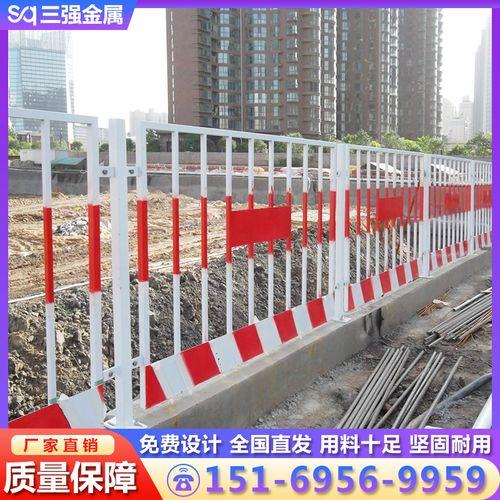sign: (8, 104, 355, 360), (356, 131, 476, 288)
